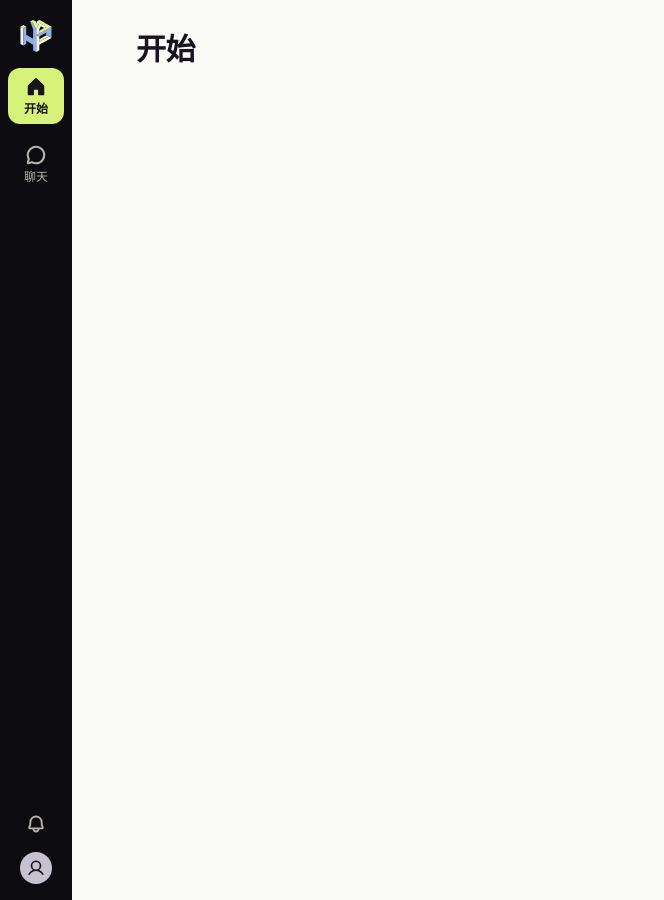
it: A7 hidden first-run wizard › shows an unknown account receipt as unknown, never as completed
The image size is (664, 900).
Click the button named "我的账号与 Agent 设置菜单" at (36, 868), box [16,848,56,888]
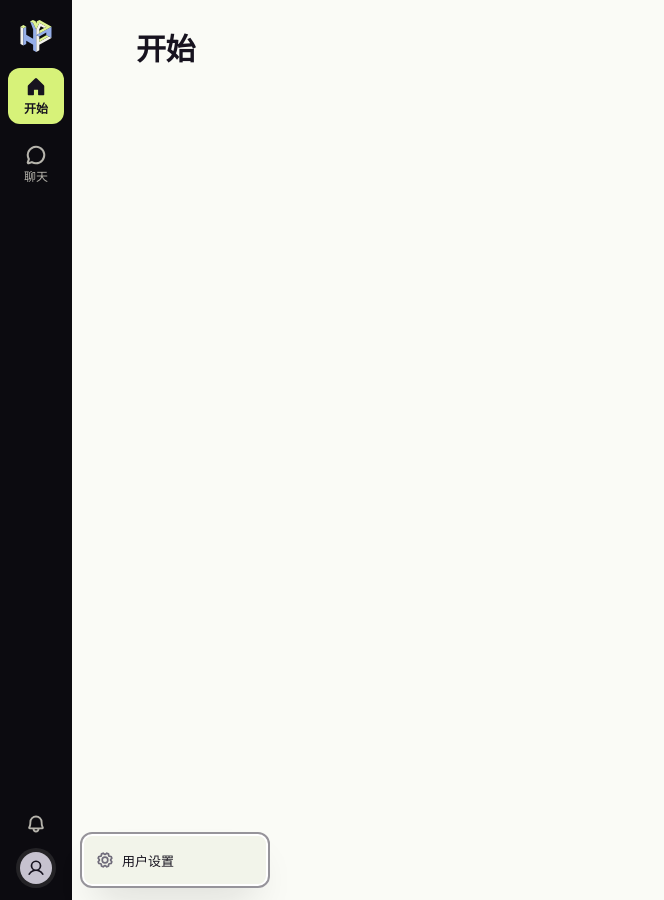
Click the menu item "用户设置" at (175, 860), box [84,836,266,884]
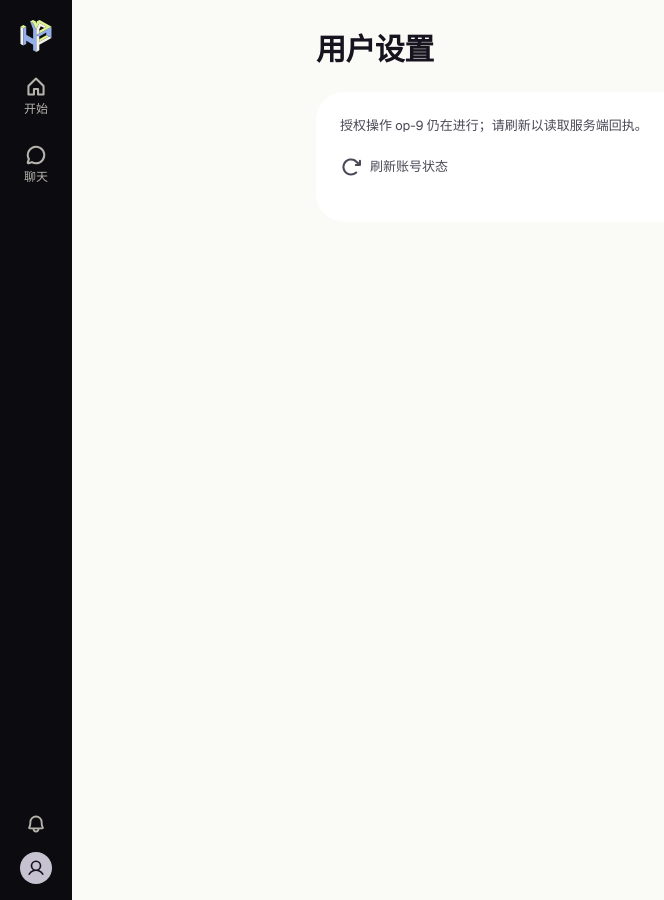
Expected: the text "授权操作 op-9 仍在进行；请刷新以读取服务端回执。" is shown, [340,117,648,134]
